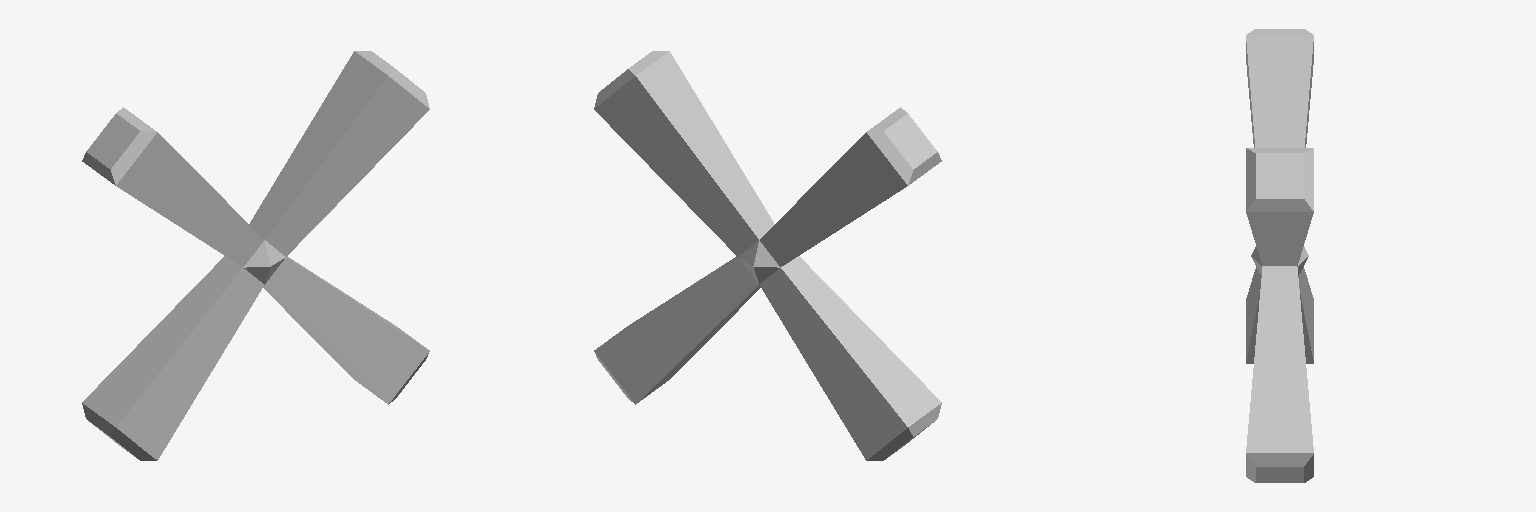
File: cross.obj
3 renders of one model, left to right at view 1: azimuth 30°, elevation 25°; view 2: azimuth 150°, elevation 25°; view 3: azimuth 270°, elevation 25°, orthographic.
Parts seen in each view (by area): view 1: body; view 2: body; view 3: body.
Boxes of the visible parts, x1,y1,x2,y2 form: body: [82, 51, 429, 460]; body: [594, 51, 941, 460]; body: [1246, 29, 1313, 482].
Bounding box in the file's own units: 0.7814 × 0.7814 × 0.1464.